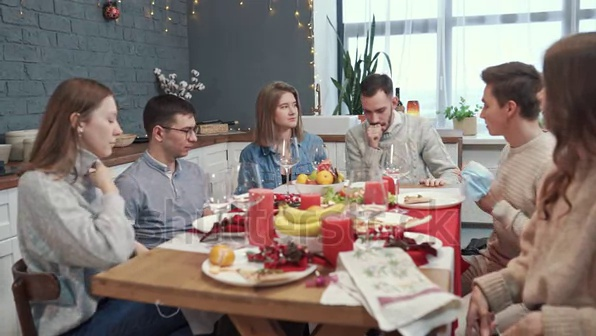No Mask: (47, 75, 126, 174), (463, 63, 541, 145), (138, 86, 208, 163), (247, 76, 316, 146), (356, 70, 407, 143)
